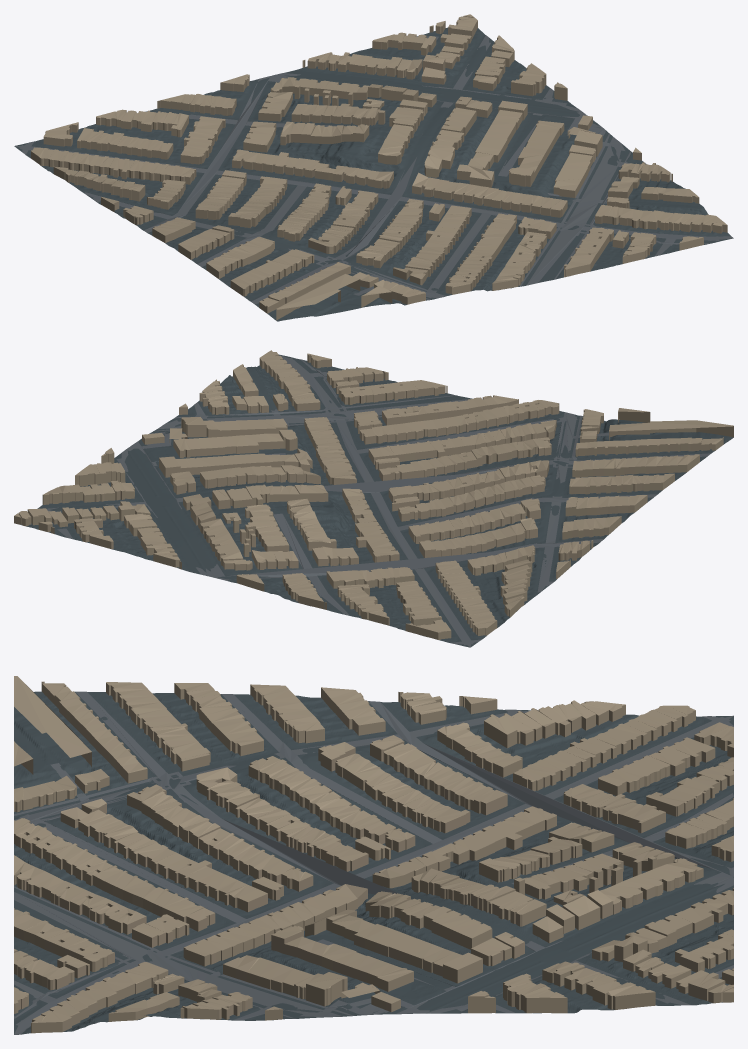
Rendered from epsg26910-1429-10871.lod0.glb.
3 renders of one model, top to bottom at view 1: azimuth 30°, elevation 25°; view 2: azimuth 150°, elevation 25°; view 3: azimuth 270°, elevation 25°, orthographic. The views are drawn at different scales.
Parts seen in each view (by area): view 1: epsg26910-1429-10871-lod0; view 2: epsg26910-1429-10871-lod0; view 3: epsg26910-1429-10871-lod0.
Boxes of the visible parts, x1,y1,x2,y2 form: epsg26910-1429-10871-lod0: [14, 14, 733, 321]; epsg26910-1429-10871-lod0: [14, 350, 733, 647]; epsg26910-1429-10871-lod0: [14, 676, 733, 1034].
Size of the model in its own units: 384 by 32.19 by 384.
